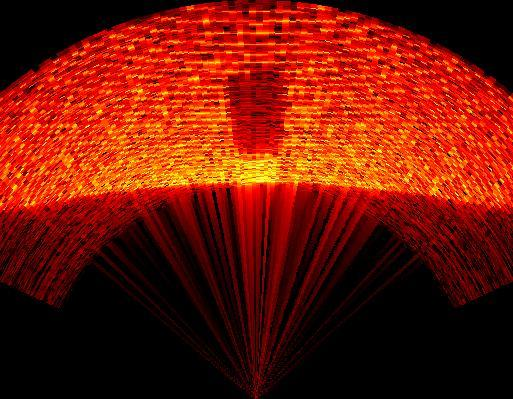box_crate: (223, 62, 289, 161)
